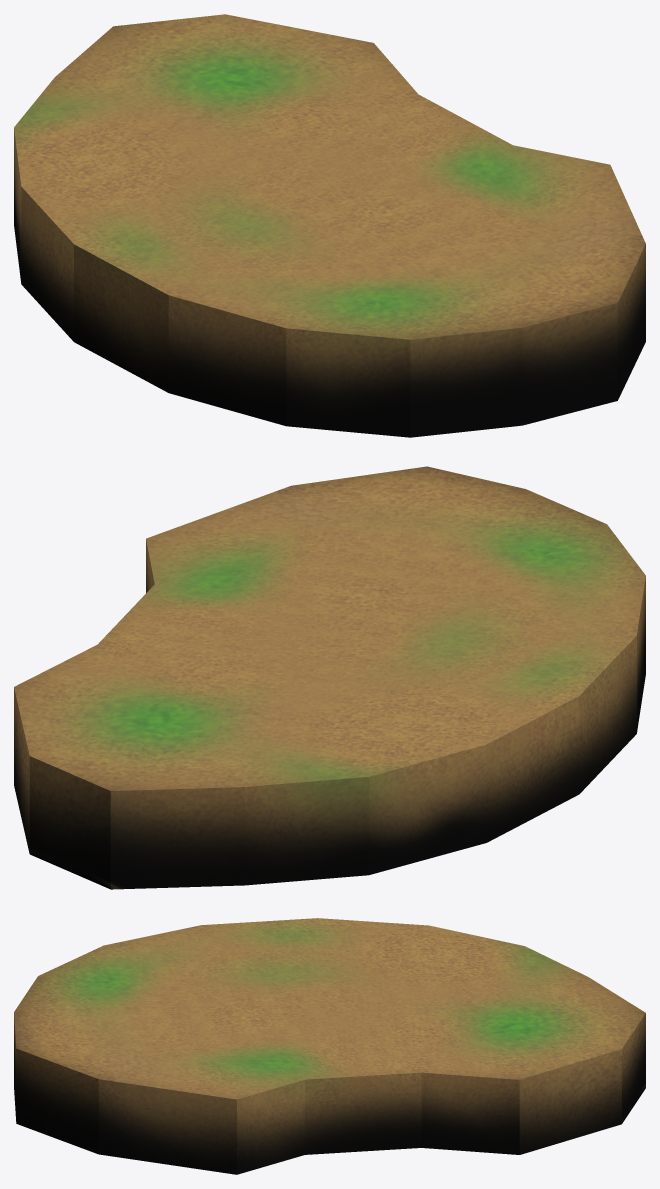
File: floor_2.glb
The picture shows the model from 3 angles, top to bottom: view 1: azimuth 30°, elevation 25°; view 2: azimuth 150°, elevation 25°; view 3: azimuth 270°, elevation 25°; orthographic projection. The views are drawn at different scales.
Visible parts, largest first — view 1: Floor_2-col; view 2: Floor_2-col; view 3: Floor_2-col.
Part boxes in pixels (left/top/right/bottom): Floor_2-col: left=14, top=14, right=645, bottom=437; Floor_2-col: left=14, top=466, right=645, bottom=889; Floor_2-col: left=14, top=918, right=645, bottom=1174.
Size of the model in its own units: 12.53 by 2.42 by 18.44.
Materials: 1 (1 with a texture image).
